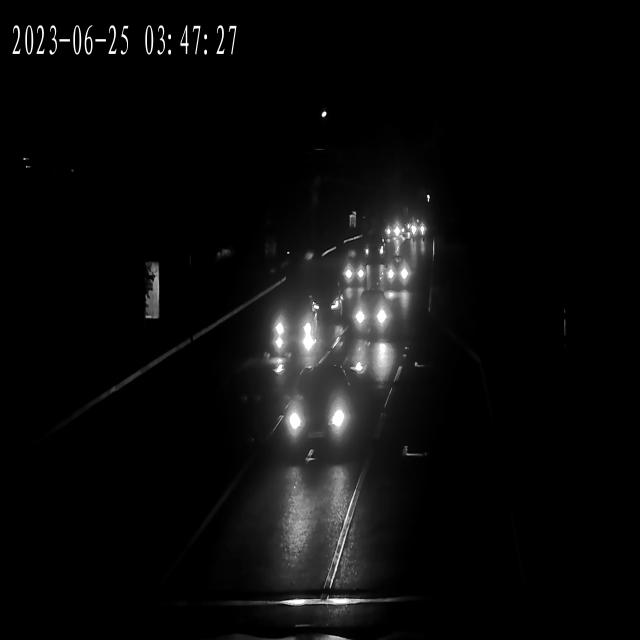Car: (278, 372, 357, 449), (268, 301, 322, 359), (348, 296, 392, 341), (305, 281, 347, 319), (380, 260, 411, 288), (340, 257, 370, 285), (408, 218, 436, 242), (384, 211, 402, 239)
